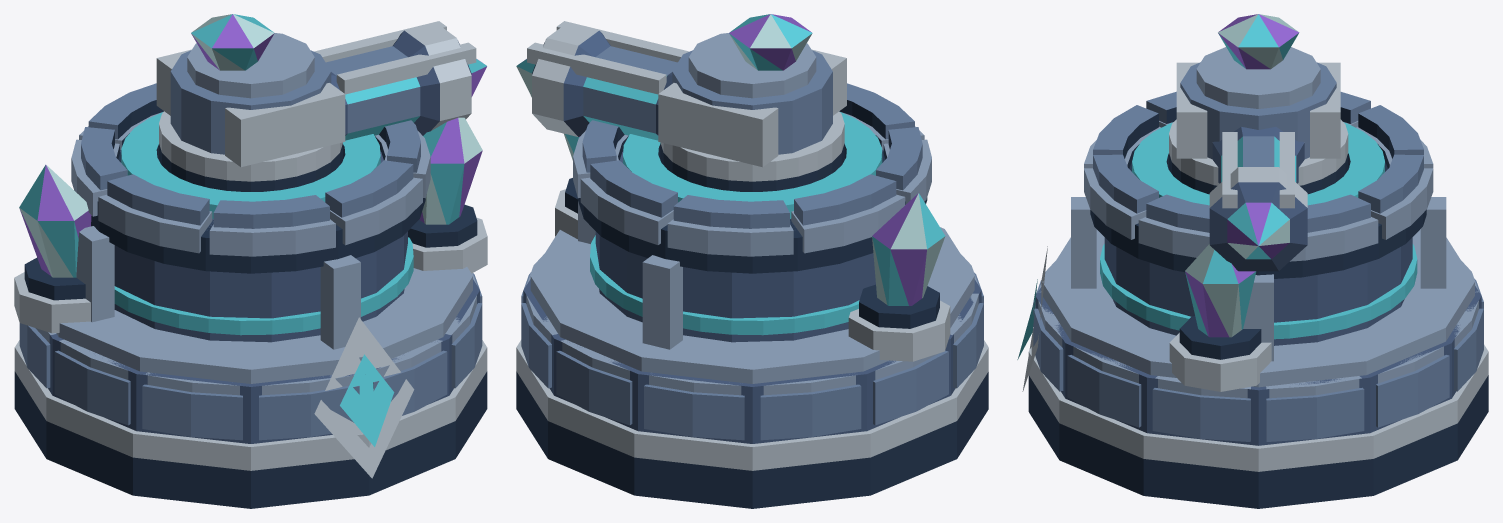
Rendered from crystal-tower-tier-1.glb.
3 renders of one model, left to right at view 1: azimuth 30°, elevation 25°; view 2: azimuth 150°, elevation 25°; view 3: azimuth 270°, elevation 25°, orthographic. The views are drawn at different scales.
Visible parts, largest first — view 1: Armored base and crystal sockets, Turret, Barrel recoil joint; view 2: Armored base and crystal sockets, Turret, Barrel recoil joint; view 3: Armored base and crystal sockets, Turret, Barrel recoil joint.
Part boxes in pixels (box(x1,y1,x2,y2)): Armored base and crystal sockets: box(14, 83, 487, 508); Turret: box(156, 14, 345, 191); Barrel recoil joint: box(314, 21, 486, 140); Armored base and crystal sockets: box(516, 83, 988, 508); Turret: box(658, 14, 846, 191); Barrel recoil joint: box(516, 21, 689, 140); Armored base and crystal sockets: box(1017, 91, 1488, 508); Turret: box(1169, 14, 1348, 194); Barrel recoil joint: box(1209, 126, 1307, 271).
Bounding box in the file's own units: 0.9861 × 0.84 × 0.922.
